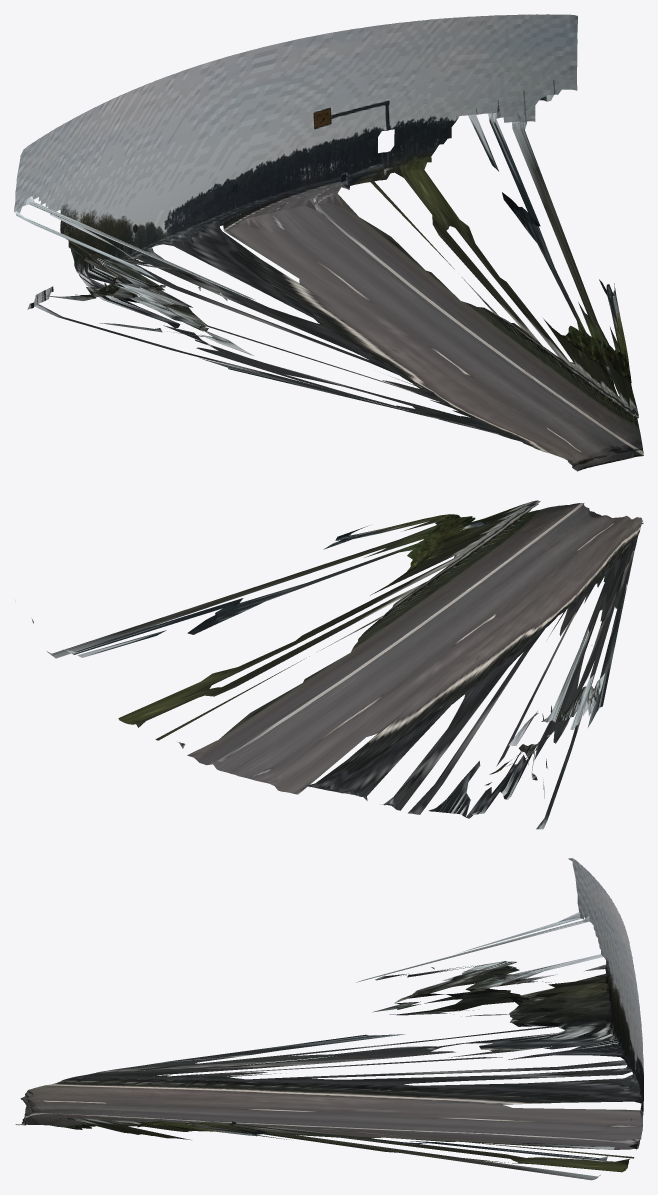
The picture shows the model from 3 angles, top to bottom: view 1: azimuth 30°, elevation 25°; view 2: azimuth 150°, elevation 25°; view 3: azimuth 270°, elevation 25°; orthographic projection. The views are drawn at different scales.
Parts seen in each view (by area): view 1: defaultobject; view 2: defaultobject; view 3: defaultobject.
Part boxes in pixels (bbox=[...]): defaultobject: bbox=[14, 14, 643, 471]; defaultobject: bbox=[31, 500, 643, 829]; defaultobject: bbox=[15, 858, 643, 1180].
Bounding box in the file's own units: 41.02 × 12.8 × 44.83.
Materials: 1 (1 with a texture image).
